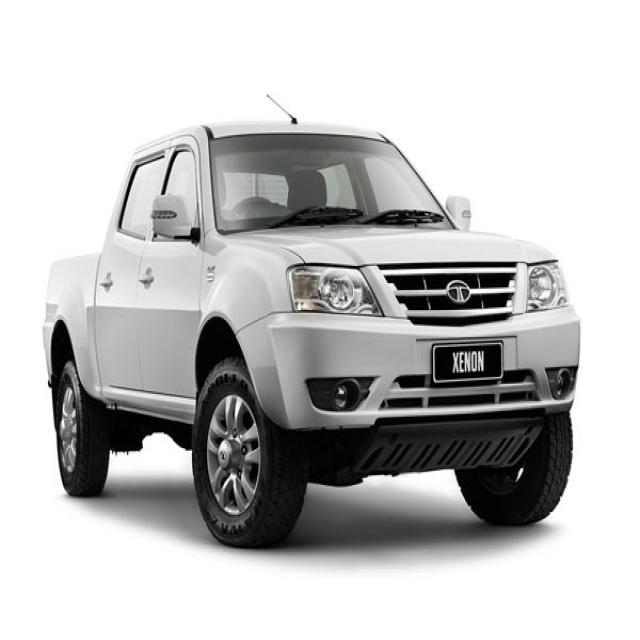truck: (42, 122, 580, 547)
